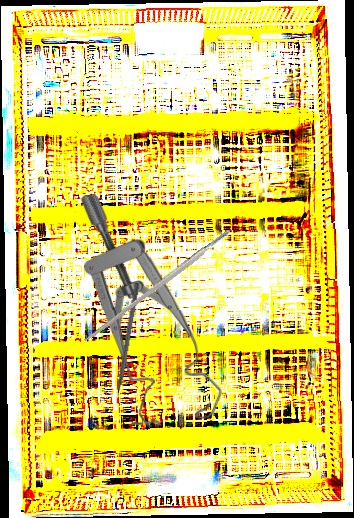Hook Surgical: (111, 281, 141, 410)
Scalpel Handle: (82, 228, 234, 344)
Speculum: (78, 192, 223, 428)
